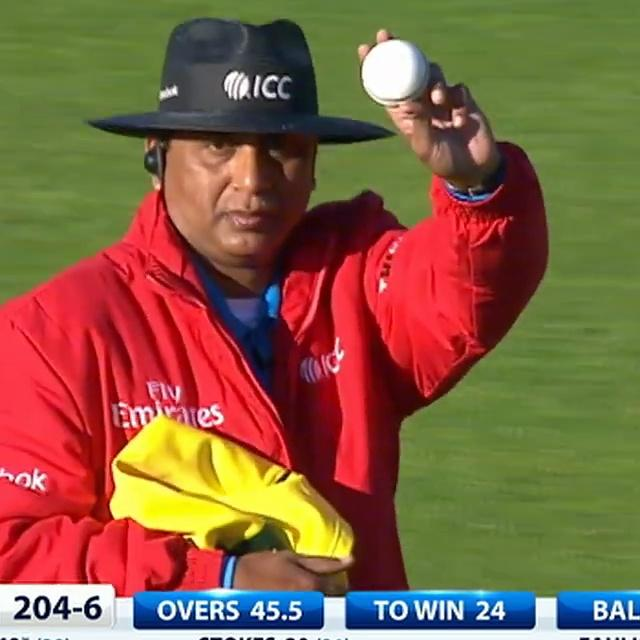umpire: (0, 0, 575, 593)
